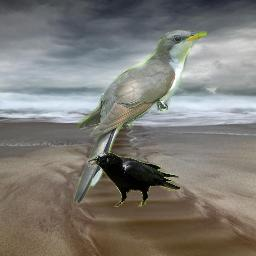Crow: (85, 152, 180, 207)
Cuckoo: (73, 30, 207, 203)
